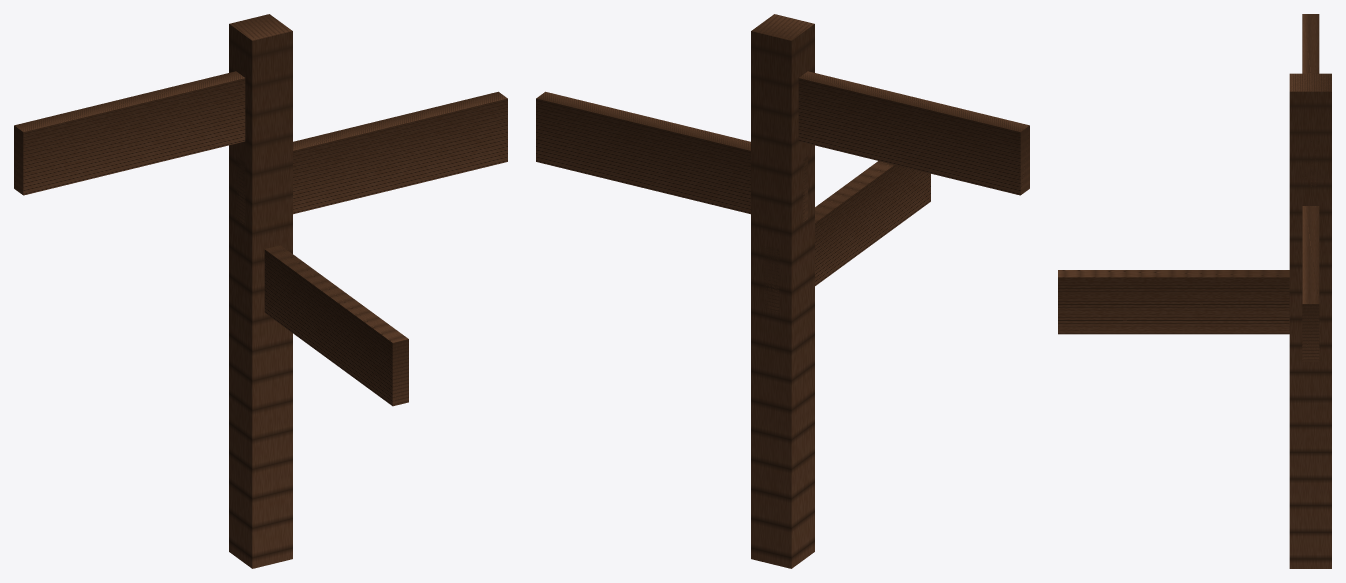
The model's file is signpost_wooden.gltf.
3 renders of one model, left to right at view 1: azimuth 30°, elevation 25°; view 2: azimuth 150°, elevation 25°; view 3: azimuth 270°, elevation 25°, orthographic. The views are drawn at different scales.
Visible parts, largest first — view 1: signpost_wooden; view 2: signpost_wooden; view 3: signpost_wooden.
Part boxes in pixels (<box>): signpost_wooden: <box>14,14,507,568</box>; signpost_wooden: <box>536,14,1029,568</box>; signpost_wooden: <box>1058,14,1331,568</box>.
Size of the model in its own units: 2.4 by 2.5 by 1.3.
Materials: 1 (1 with a texture image).
